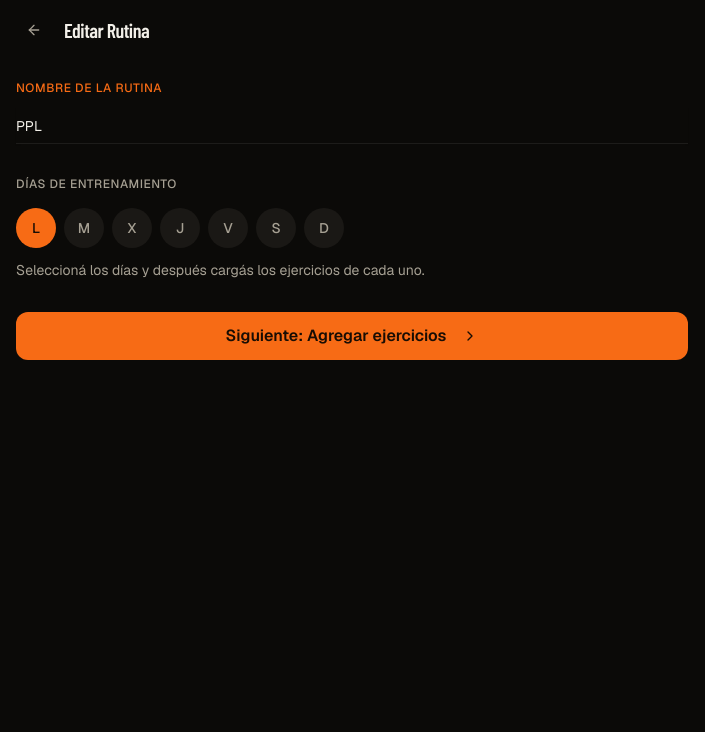
Test: RoutineForm methodology toggle › clears a pending collapse prompt when an earlier exercise is removed (index-keyed prompt bug)
The width and height of the screenshot is (705, 732).
Click the button "Siguiente: Agregar ejercicios" at (352,336), box [16,312,688,360]
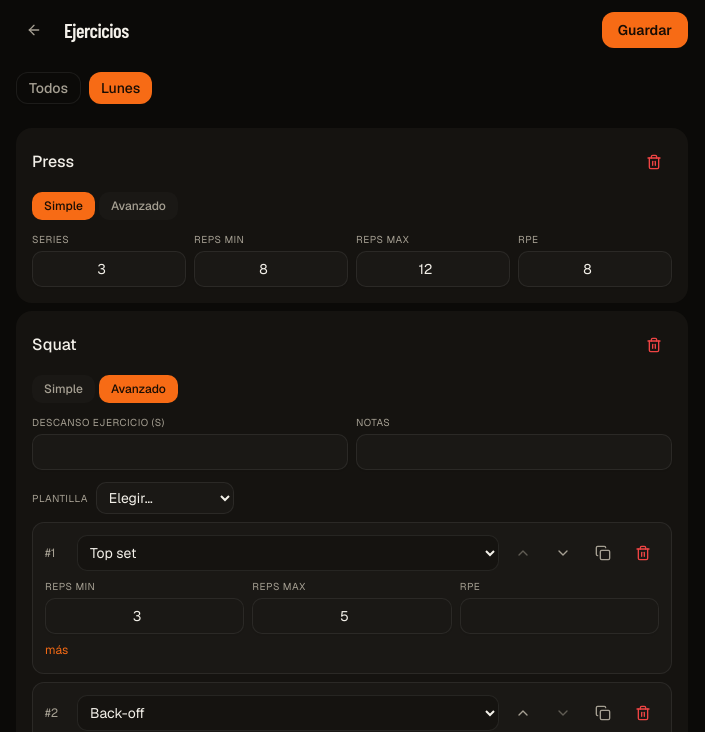
Expected: the number of buttons "Simple" is 3
Click the button "Simple" below "Squat" at (64,389), box [32,375,95,403]
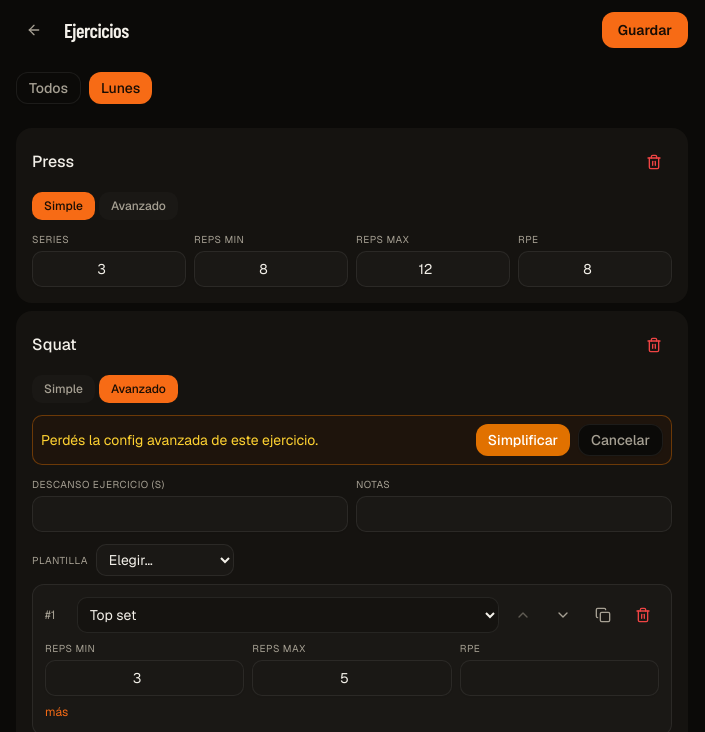
Expected: the text "Perdés la config avanzada de este ejercicio." is shown, [41,430,318,450]
Expected: the number of buttons named "Eliminar ejercicio" is 3
Click the button named "Eliminar ejercicio" in the row of "Press" at (654,162), box [636,144,672,180]
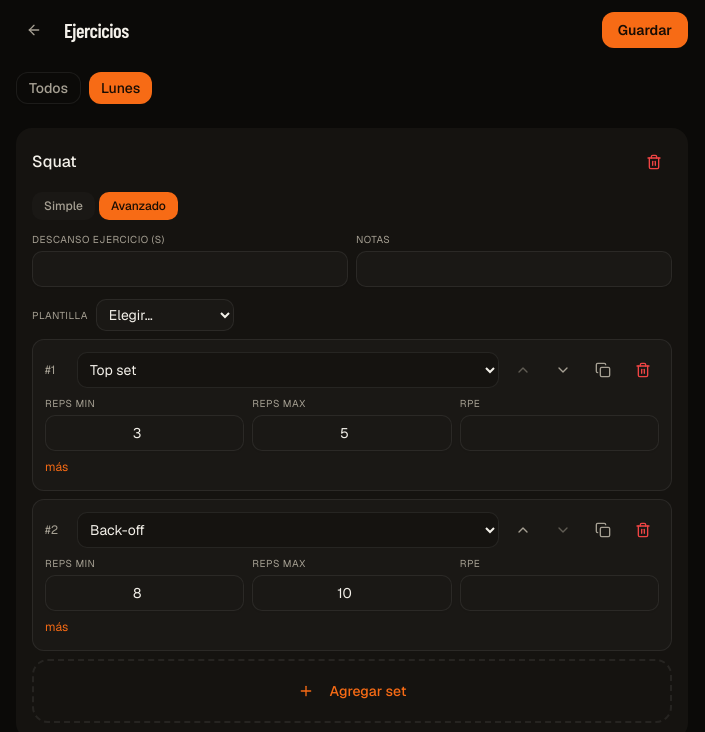
Expected: the text "Perdés la config avanzada" is gone
